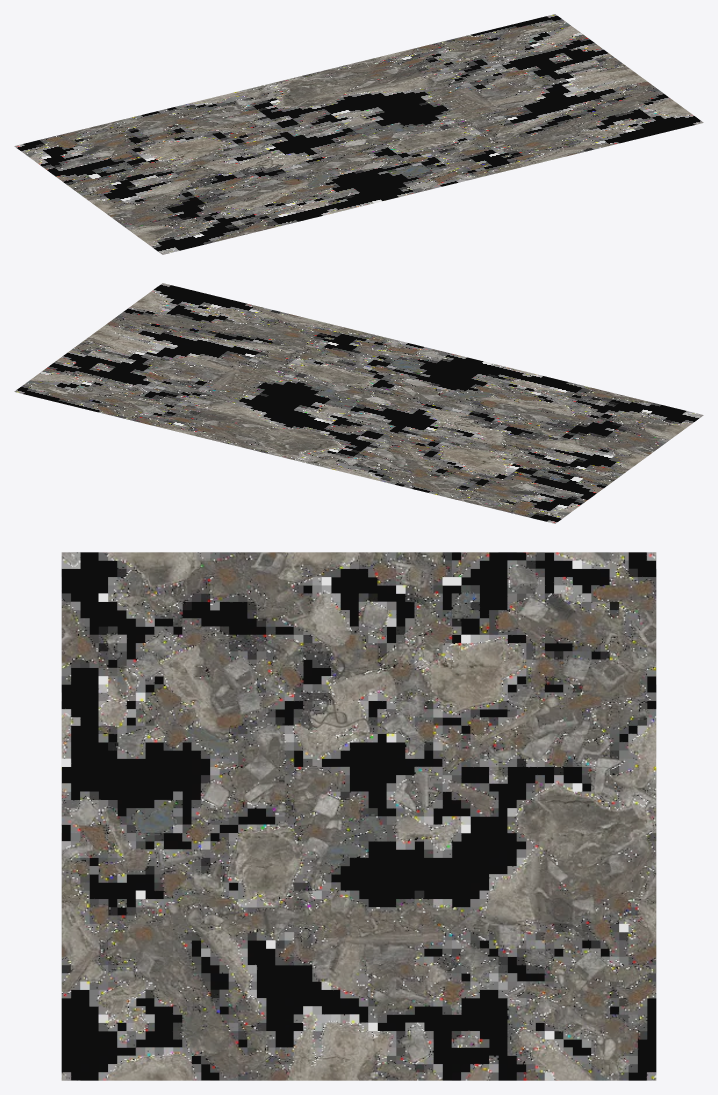
File: water_treatment_tank.glb
3 renders of one model, top to bottom at view 1: azimuth 30°, elevation 25°; view 2: azimuth 150°, elevation 25°; view 3: azimuth 270°, elevation 25°, orthographic. The views are drawn at different scales.
Visible parts, largest first — view 1: Plane; view 2: Plane; view 3: Plane.
Boxes of the visible parts, x1,y1,x2,y2 form: Plane: (14, 14, 703, 254); Plane: (14, 283, 703, 523); Plane: (61, 552, 656, 1080).
Size of the model in its own units: 3.95 by 0 by 1.88.
1 material, 1 textured.
